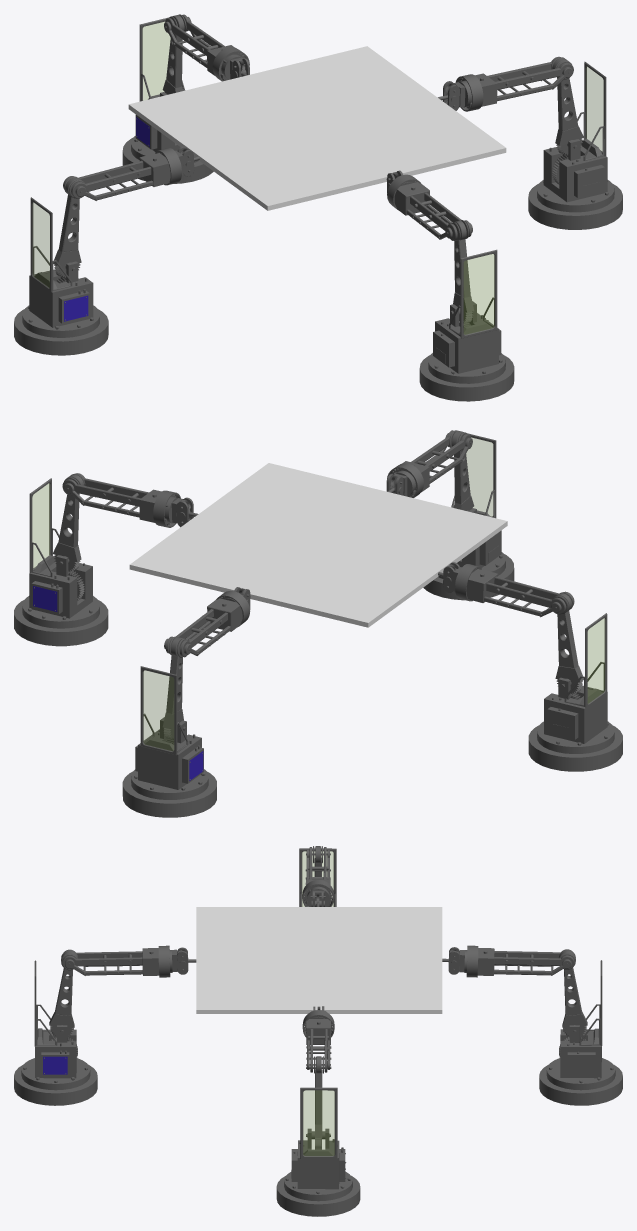
Rendered from table.FBX.
3 views of the same model, one above another, from view 1: azimuth 30°, elevation 25°; view 2: azimuth 150°, elevation 25°; view 3: azimuth 270°, elevation 25° (orthographic). The views are drawn at different scales.
Visible parts, largest first — view 1: Box001, Base_Mechanics001, robot 3, robot 005, robot 2, EntireRobot001, EntireRobot002, EntireRobot003, BackGlass, Base_Mechanics, robot 003, robot 004 (+13 smaller); view 2: Box001, Base_Mechanics, robot 3, robot 005, BackGlass, EntireRobot003, EntireRobot, EntireRobot002, robot 2, Base_Mechanics001, robot 003, BottomDisc003robot 4 (+13 smaller); view 3: Box001, robot 005, Base_Mechanics001, Base_Mechanics, robot 004, EntireRobot003, EntireRobot001, EntireRobot, BottomDisc, BottomDisc001, BottomDisc003robot 4, LowerArm (+5 smaller).
Part boxes in pixels (x1=…): Box001: x1=128, y1=46, x2=506, y2=210; Base_Mechanics001: x1=433, y1=249, x2=501, y2=373; robot 3: x1=29, y1=197, x2=93, y2=327; robot 005: x1=543, y1=61, x2=607, y2=202; robot 2: x1=464, y1=254, x2=494, y2=334; EntireRobot001: x1=419, y1=355, x2=514, y2=401; EntireRobot002: x1=14, y1=309, x2=108, y2=355; EntireRobot003: x1=528, y1=183, x2=622, y2=229; BackGlass: x1=143, y1=22, x2=170, y2=100; Base_Mechanics: x1=135, y1=17, x2=185, y2=151; robot 003: x1=33, y1=203, x2=49, y2=287; robot 004: x1=586, y1=67, x2=603, y2=151; Box001: x1=129, y1=463, x2=507, y2=627; Base_Mechanics: x1=135, y1=666, x2=203, y2=789; robot 3: x1=544, y1=613, x2=607, y2=743; robot 005: x1=29, y1=478, x2=92, y2=618; BackGlass: x1=143, y1=670, x2=173, y2=750; EntireRobot003: x1=14, y1=600, x2=108, y2=646; EntireRobot: x1=122, y1=771, x2=216, y2=817; EntireRobot002: x1=528, y1=725, x2=622, y2=771; robot 2: x1=466, y1=438, x2=492, y2=516; Base_Mechanics001: x1=451, y1=433, x2=501, y2=567; robot 003: x1=588, y1=618, x2=604, y2=703; BottomDisc003robot 4: x1=22, y1=596, x2=99, y2=628; Box001: x1=196, y1=907, x2=442, y2=1013; robot 005: x1=291, y1=1087, x2=346, y2=1189; Base_Mechanics001: x1=34, y1=960, x2=76, y2=1078; Base_Mechanics: x1=560, y1=960, x2=602, y2=1078; robot 004: x1=303, y1=1090, x2=334, y2=1155; EntireRobot003: x1=276, y1=1175, x2=360, y2=1216; EntireRobot001: x1=14, y1=1064, x2=97, y2=1105; EntireRobot: x1=539, y1=1064, x2=622, y2=1105; BottomDisc: x1=546, y1=1058, x2=615, y2=1090; BottomDisc001: x1=21, y1=1058, x2=90, y2=1090; BottomDisc003robot 4: x1=284, y1=1171, x2=352, y2=1201; LowerArm: x1=562, y1=968, x2=587, y2=1027.
Bounding box in the file's own units: 3482 × 890 × 3482.
